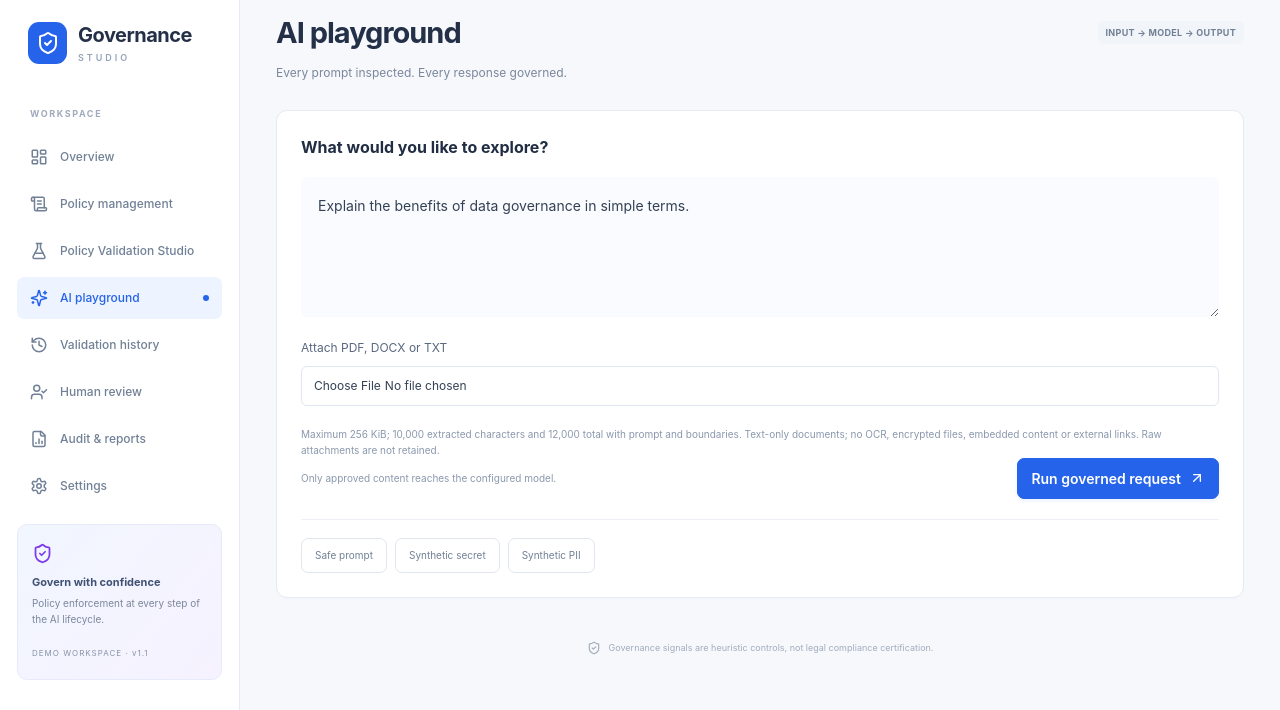
Test: truthful generation diagnostics › renders FAILED without implying successful release
The width and height of the screenshot is (1280, 710).
(page scrolled)
Click the button "Run governed request" at (1118, 478), box 1017,458 -> 1219,499
(page scrolled)
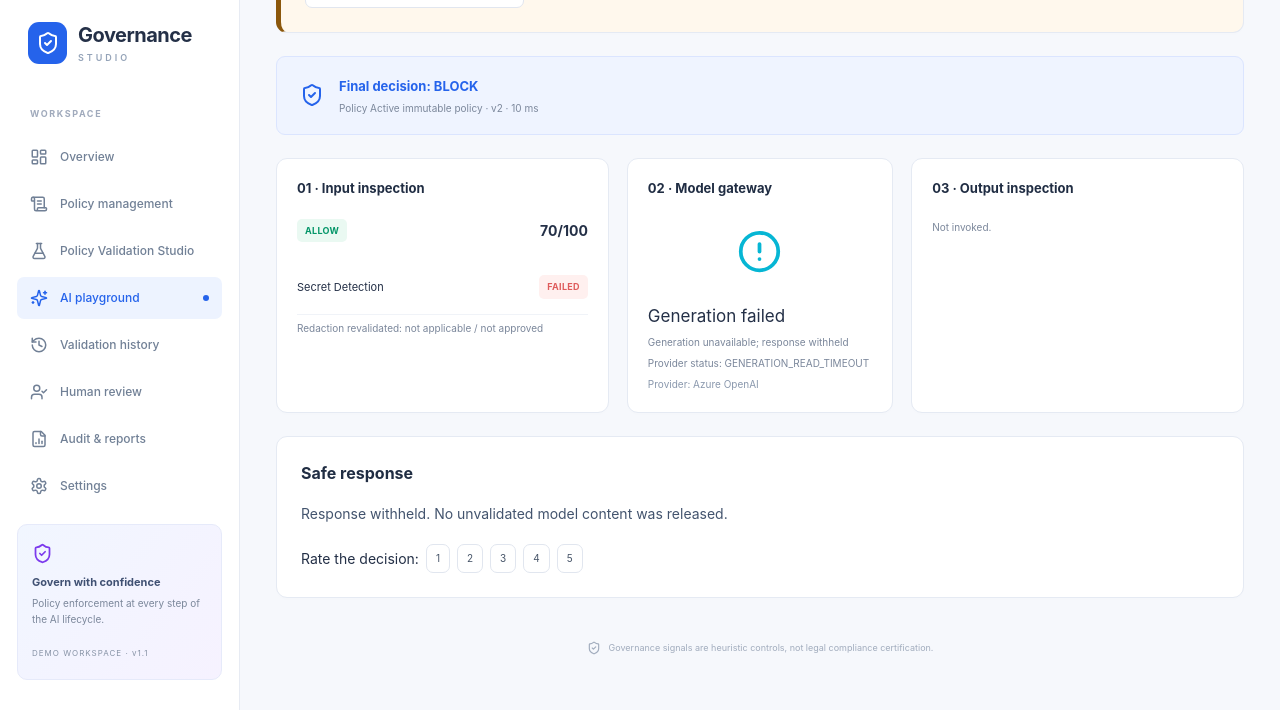
Now the heading "Generation failed" is shown, box 648,306 -> 785,326
Now the text "Policy Active immutable policy · v2 · 10 ms" is shown, box 339,100 -> 538,116
Now the text "Response withheld. No unvalidated model content was released." is shown, box 301,505 -> 728,522
